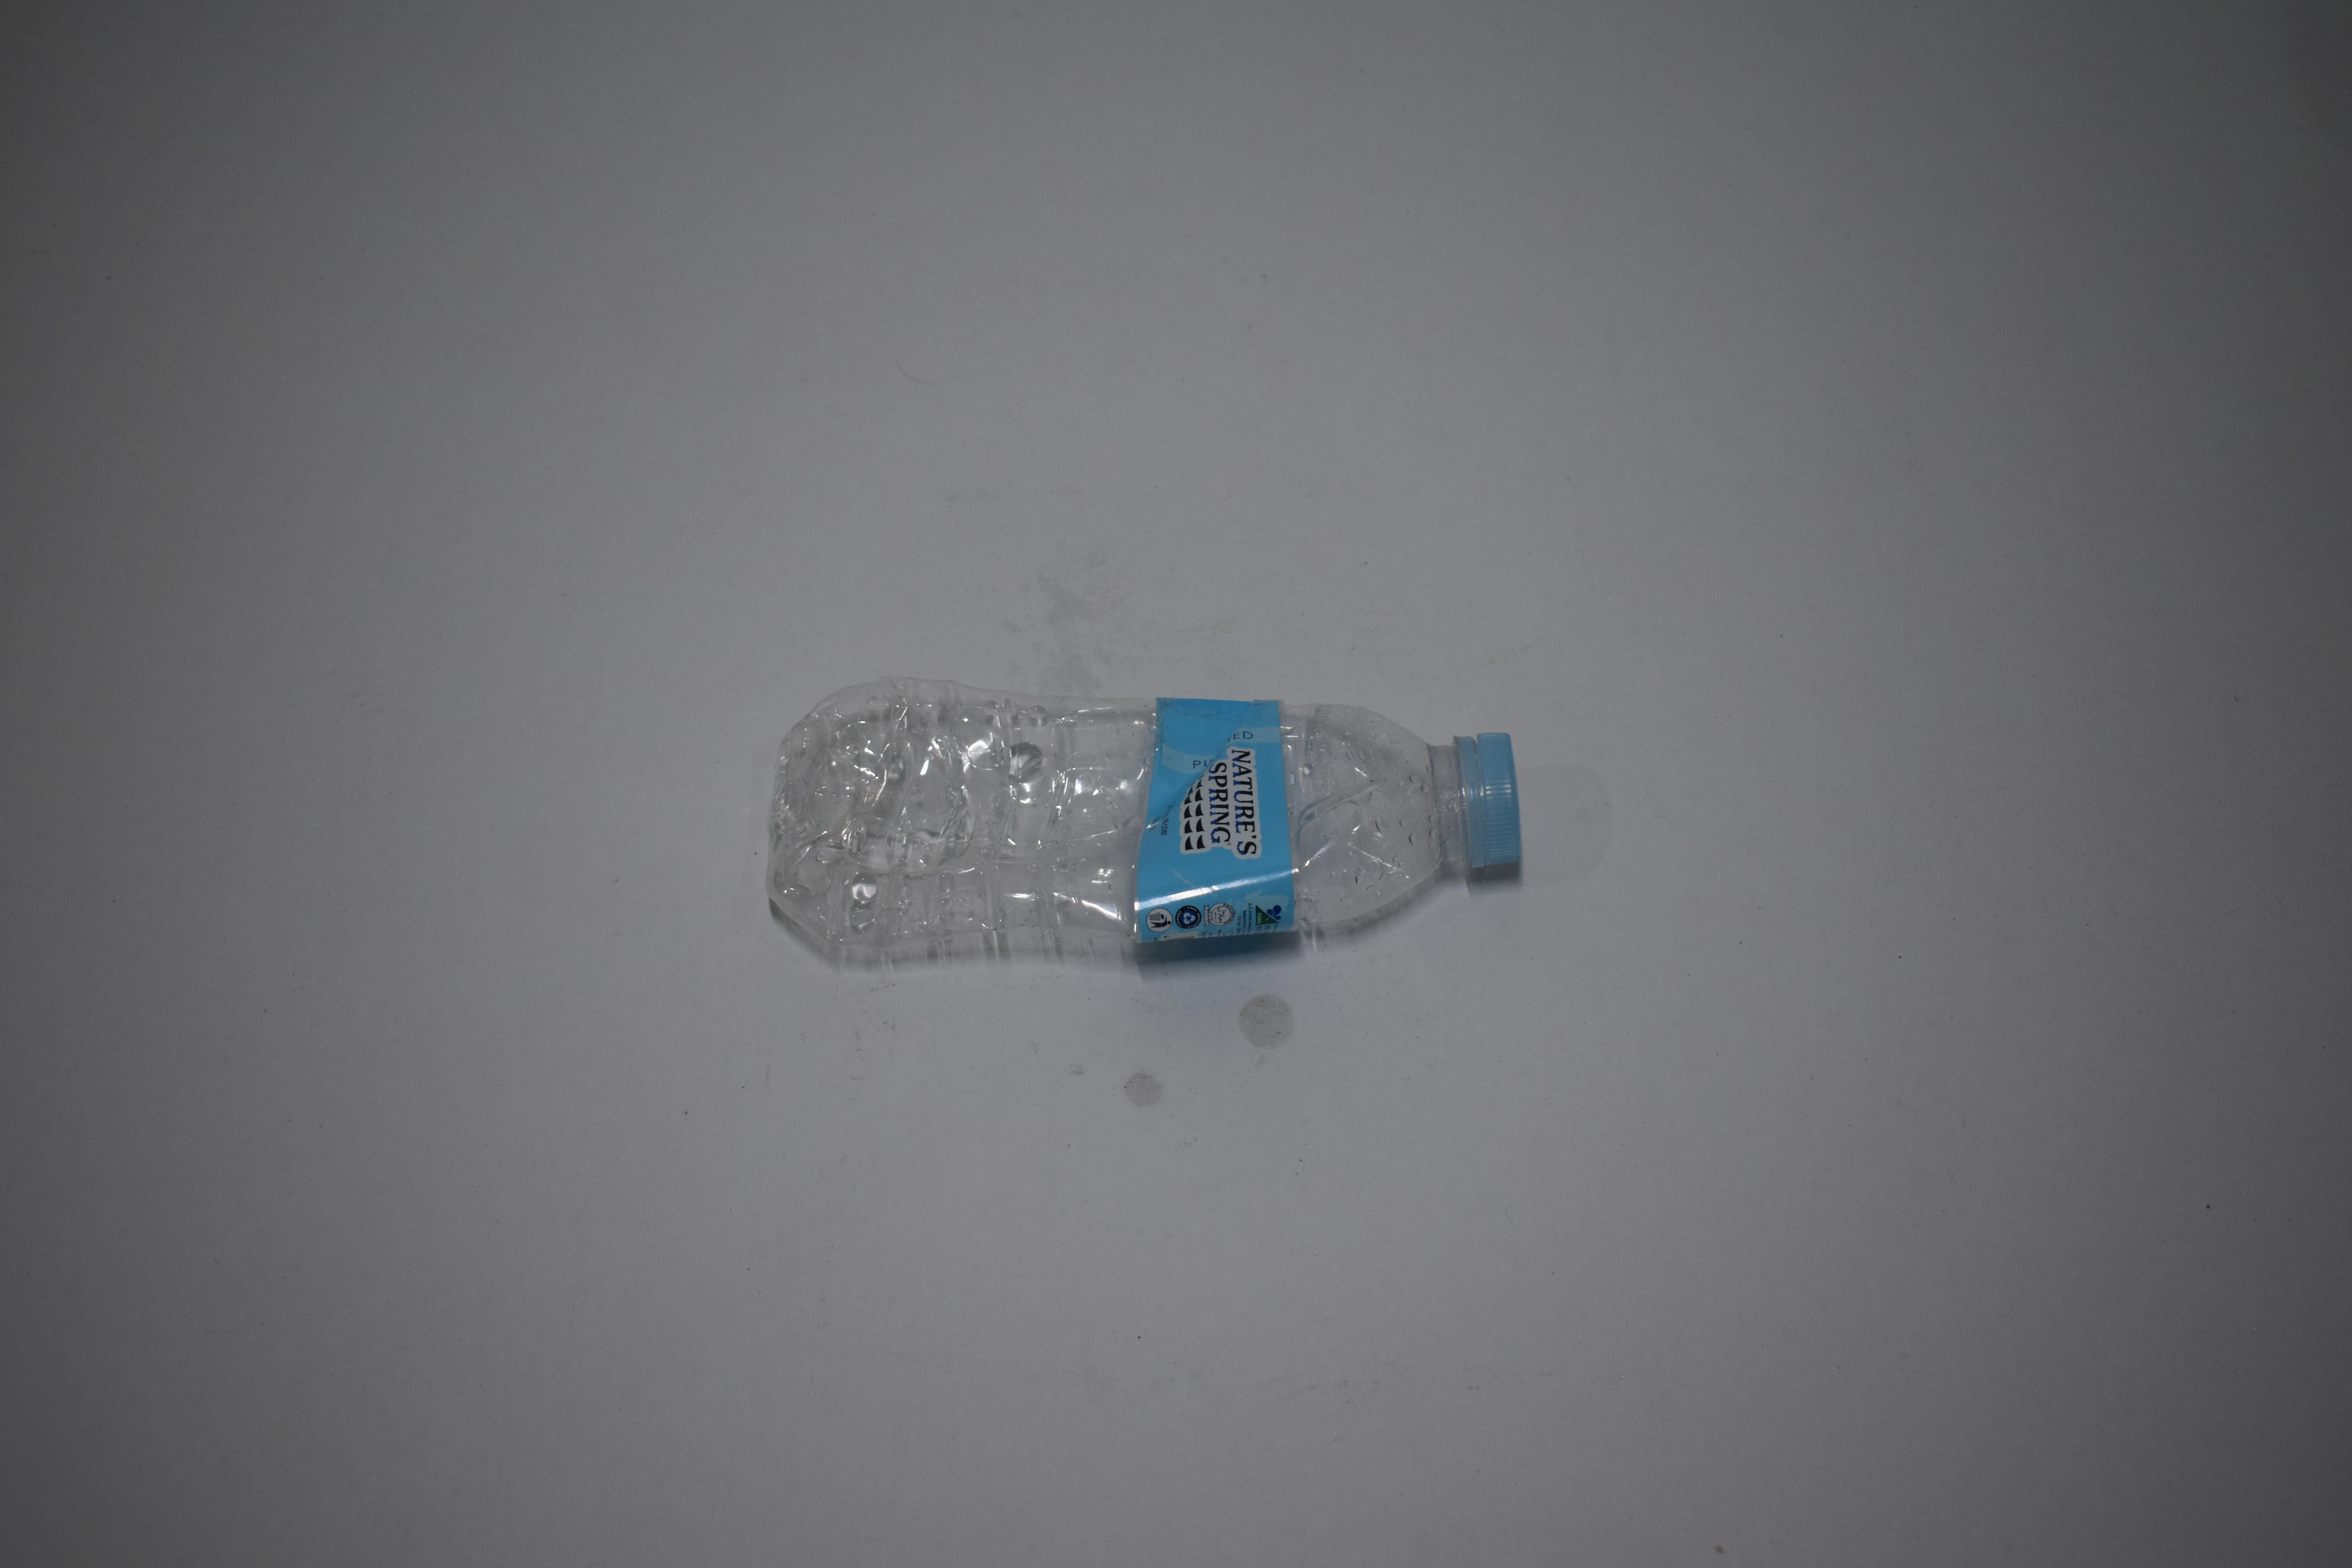bottle: (746, 0, 1517, 189)
